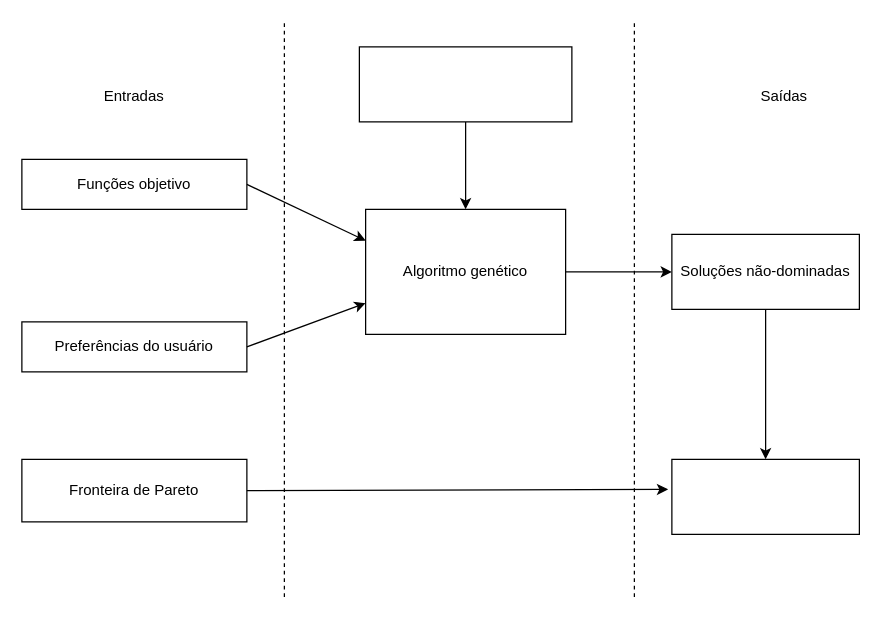
This 881x620 diagram has some shape labels left out. The centre of each missing label's shape, as x and y in pixels:
"Avaliação das métricas" goes at (x=765, y=496).
"População de soluções candidatas" goes at (x=465, y=84).
